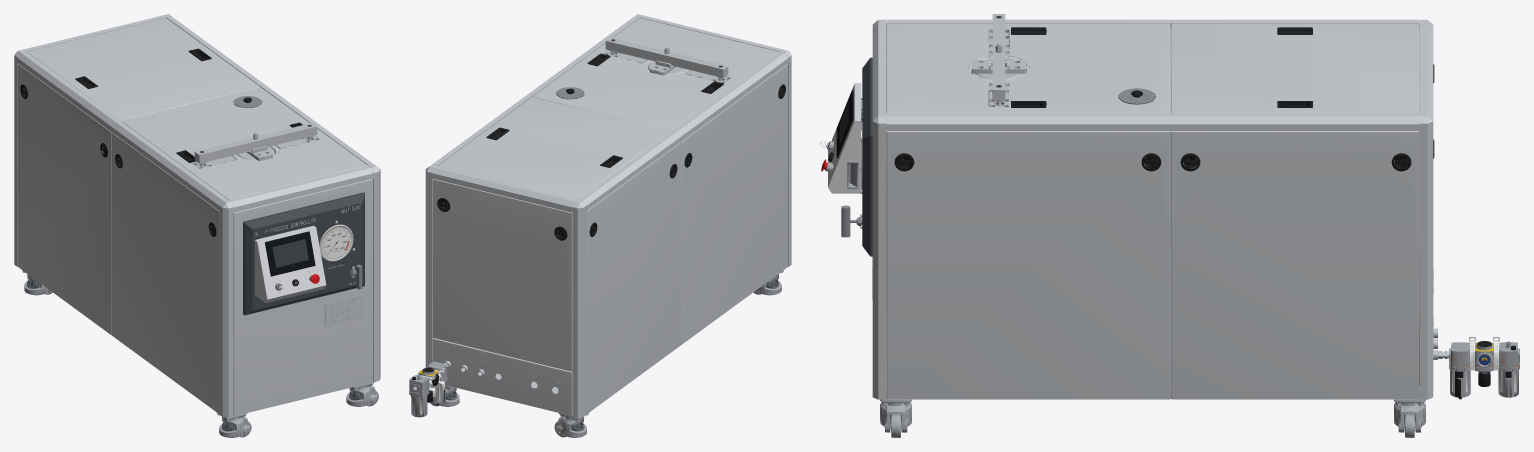
Rendered from wip26021.glb.
3 views of the same model, side by side, from view 1: azimuth 30°, elevation 25°; view 2: azimuth 150°, elevation 25°; view 3: azimuth 270°, elevation 25° (orthographic). The views are drawn at different scales.
Parts seen in each view (by area): view 1: p271, p274, p432, p412, p602, p430, p232, p258, p521, p229, p259, p433 (+9 smaller); view 2: p275, p271, p274, p412, p602, p402, p232, p257, p230, p158, p523, p256 (+4 smaller); view 3: p270, p273, p602, p412, p231, p256, p259, p523, p232, p430, p210, p522 (+6 smaller).
Boxes of the visible parts, x1,y1,x2,y2 form: p271: (112, 133, 219, 414); p274: (17, 64, 112, 335); p432: (233, 179, 373, 415); p412: (27, 18, 259, 120); p602: (121, 87, 367, 199); p430: (243, 192, 364, 315); p232: (17, 52, 227, 210); p258: (219, 206, 233, 417); p521: (255, 225, 325, 302); p229: (229, 165, 373, 212); p259: (373, 170, 380, 381); p433: (265, 231, 315, 276); p275: (433, 179, 572, 371); p271: (680, 64, 788, 345); p274: (586, 143, 680, 414); p412: (438, 97, 670, 199); p602: (532, 18, 778, 130); p402: (433, 338, 572, 415); p232: (578, 52, 788, 210); p257: (572, 206, 586, 417); p230: (432, 165, 576, 212); p158: (605, 37, 728, 77); p523: (409, 361, 447, 417); p256: (425, 170, 433, 367); p270: (886, 131, 1170, 399); p273: (1171, 131, 1419, 399); p602: (886, 23, 1170, 113); p412: (1171, 23, 1419, 113); p231: (886, 113, 1419, 130); p256: (1420, 122, 1433, 399); p259: (872, 122, 885, 399); p523: (1449, 336, 1519, 399); p232: (886, 19, 1419, 27); p430: (862, 57, 872, 256); p210: (886, 25, 1419, 398); p522: (828, 121, 861, 193).
Size of the model in its own units: 0.7689 by 1.19 by 2.18.
22 materials, 1 textured.
